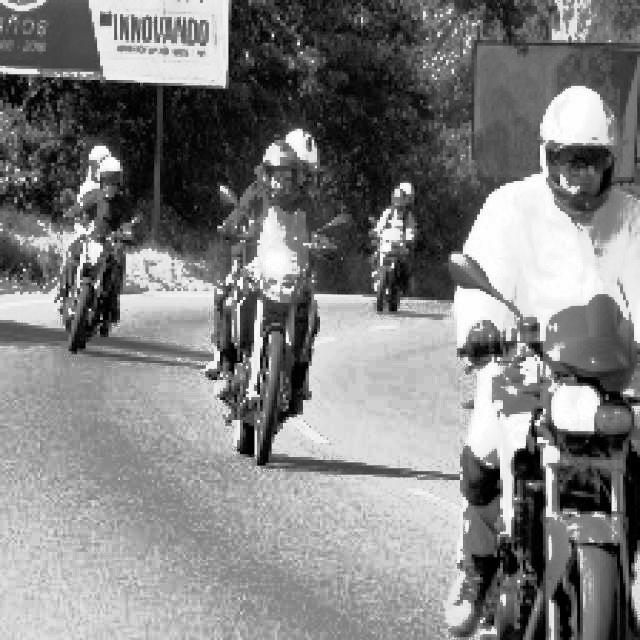Bike: (483, 289, 639, 635), (227, 193, 319, 463), (51, 212, 126, 358), (369, 186, 410, 309)
